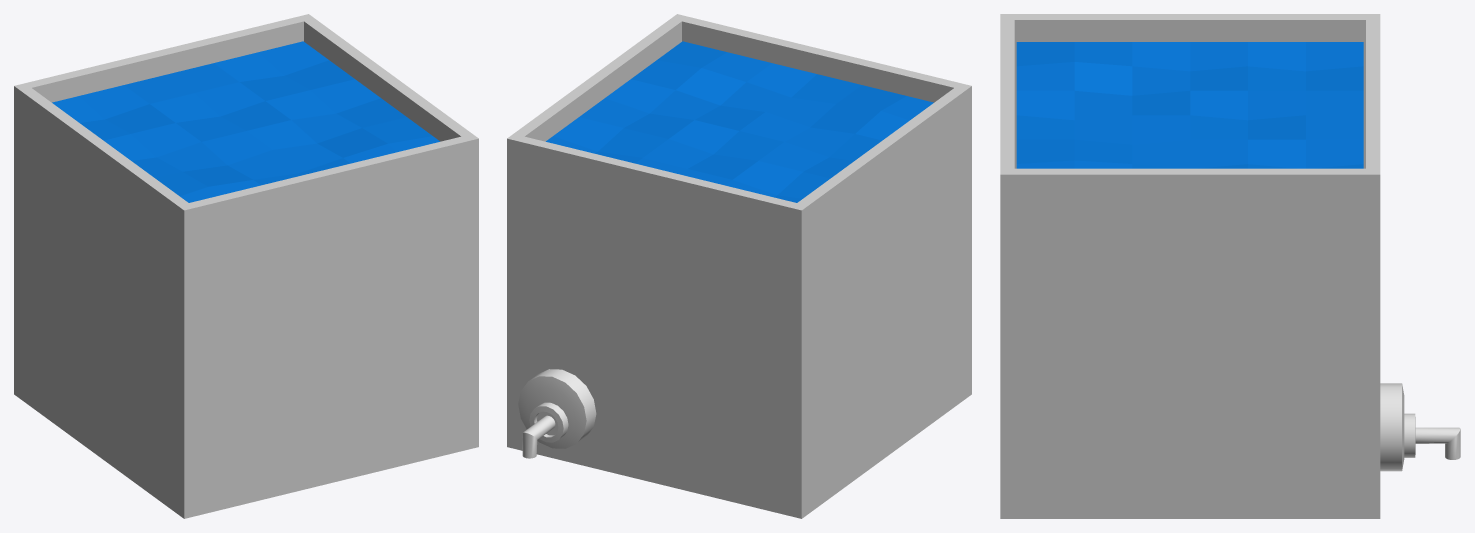
File: Water.fbx
3 views of the same model, side by side, from view 1: azimuth 30°, elevation 25°; view 2: azimuth 150°, elevation 25°; view 3: azimuth 270°, elevation 25° (orthographic). The views are drawn at different scales.
Parts seen in each view (by area): view 1: Cube; view 2: Cube, Cylinder, Cylinder.001; view 3: Cube, Cylinder, Cylinder.001.
Boxes of the visible parts, x1,y1,x2,y2 form: Cube: (14, 14, 478, 518); Cube: (507, 14, 971, 518); Cylinder: (518, 369, 596, 448); Cylinder.001: (522, 402, 568, 458); Cube: (1000, 14, 1380, 518); Cylinder: (1380, 383, 1404, 471); Cylinder.001: (1404, 413, 1460, 459).
Bounding box in the file's own units: 55.15 × 55.15 × 66.84.
